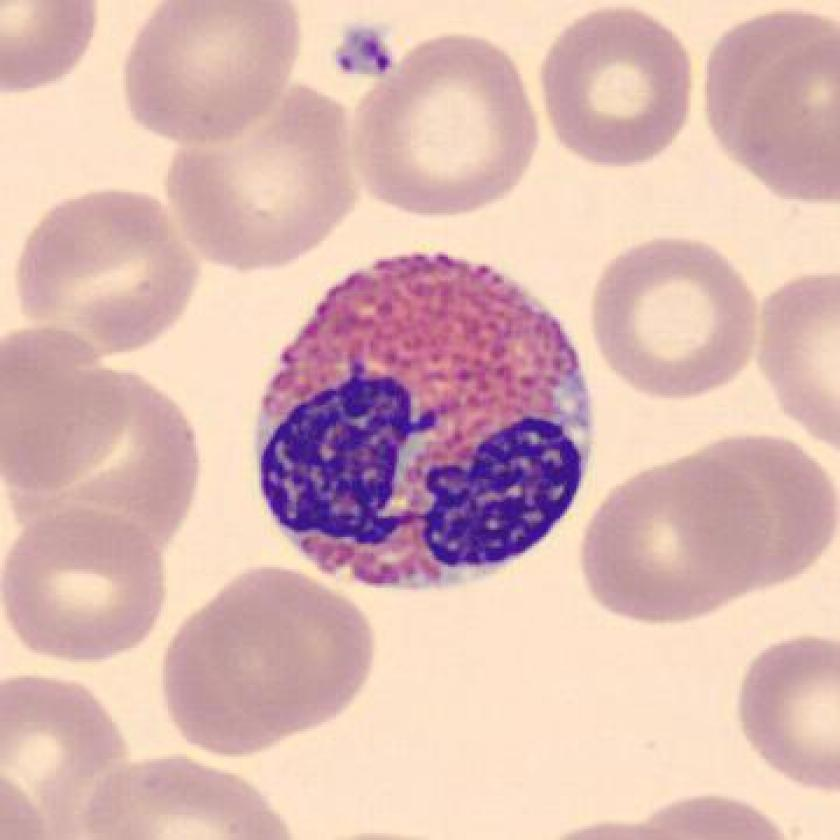eosinophil: (244, 239, 608, 612)
